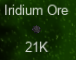Iridium: (3, 3, 70, 54)
